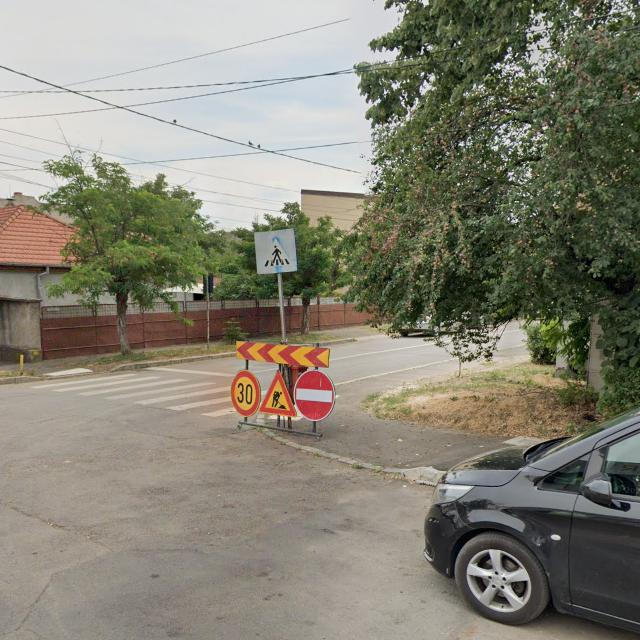forb_ahead: (295, 370, 335, 421)
forb_speed_over_30: (230, 371, 260, 416)
info_crosswalk: (255, 228, 298, 274)
warn_construction: (260, 369, 296, 416)
